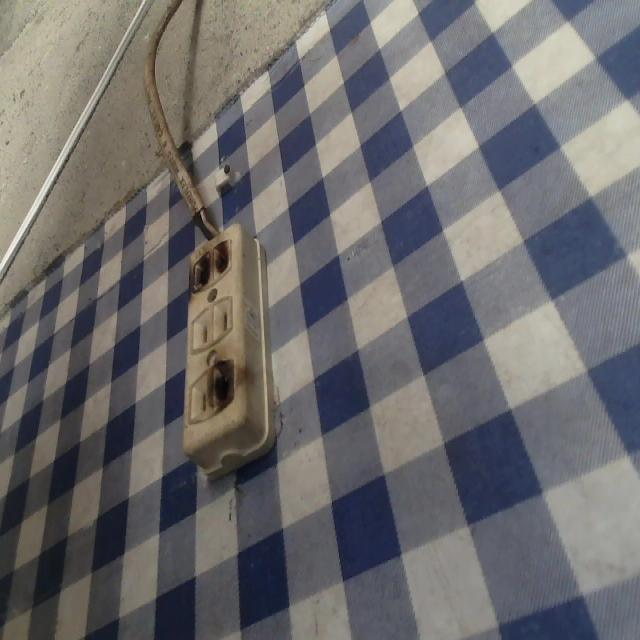-: (183, 239, 234, 296), (205, 359, 242, 416)
